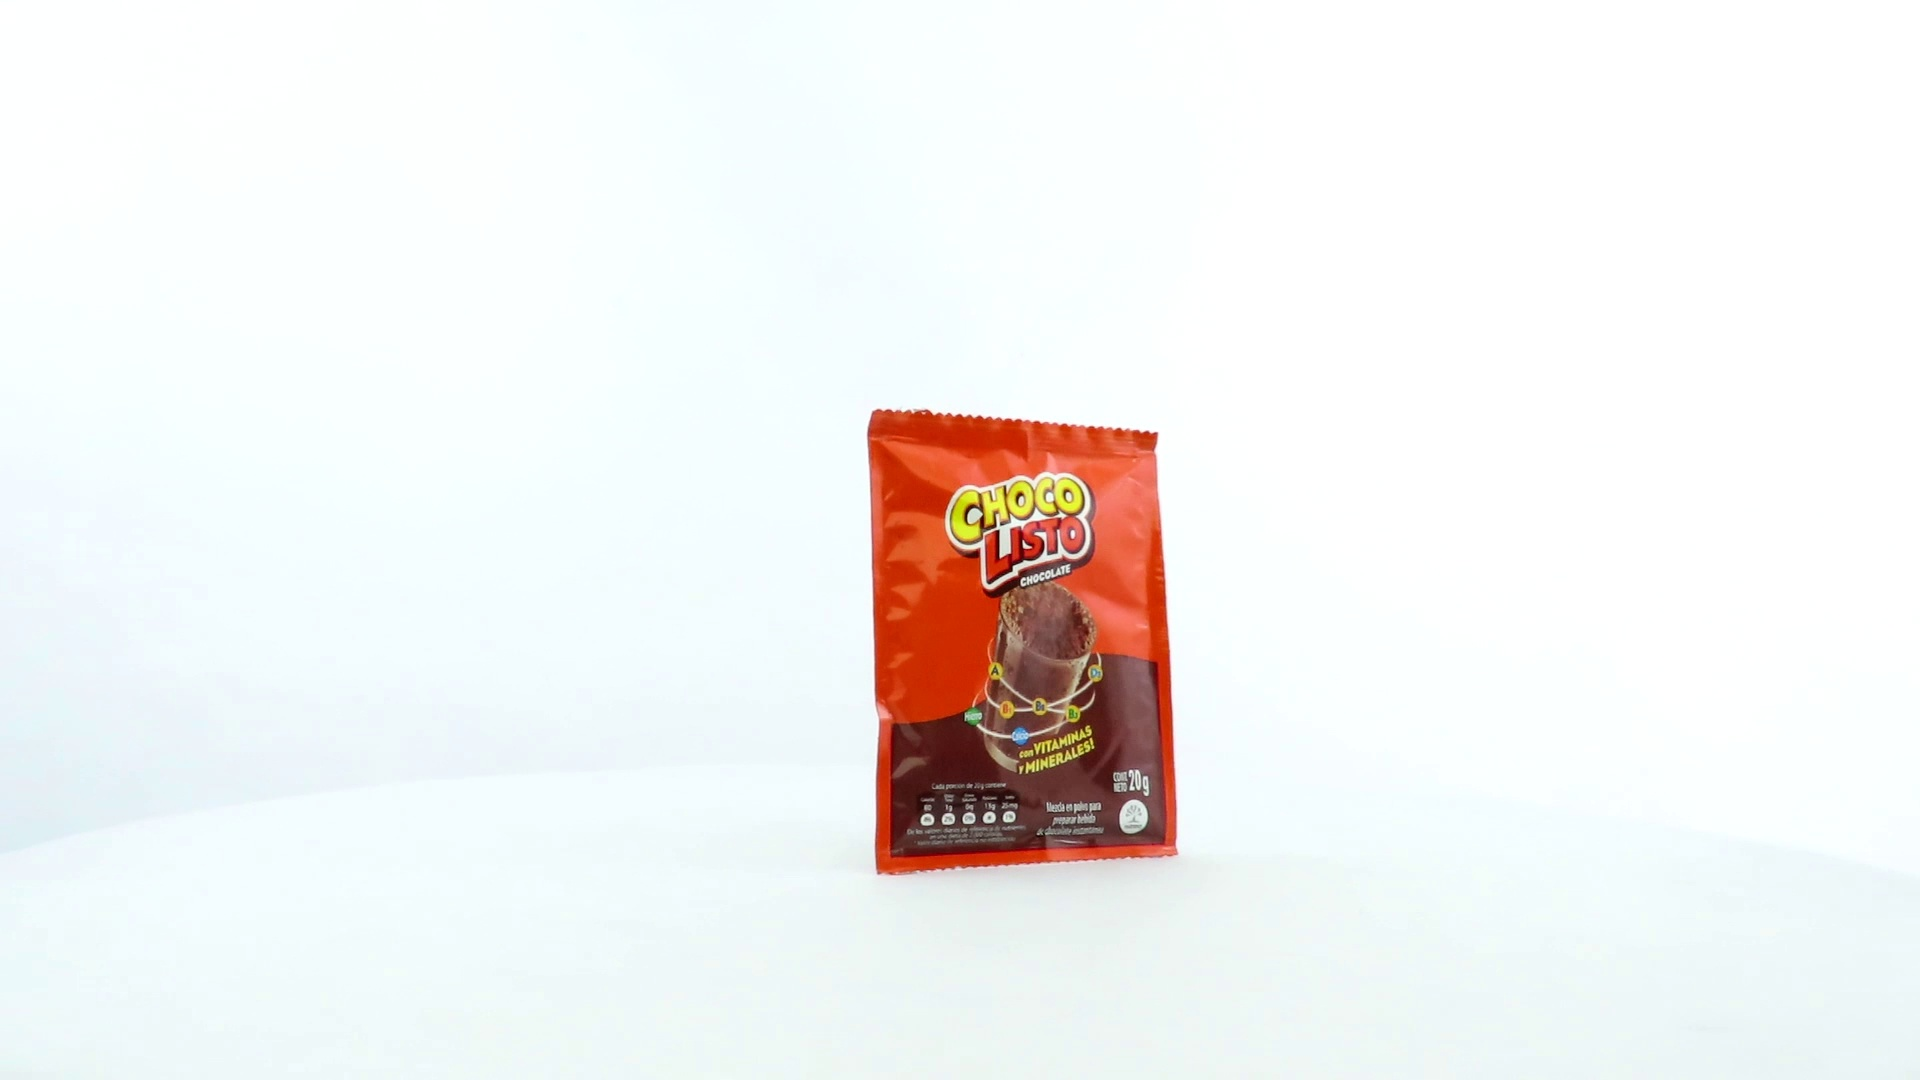COL0170103SOB02000: (862, 404, 1185, 882)
